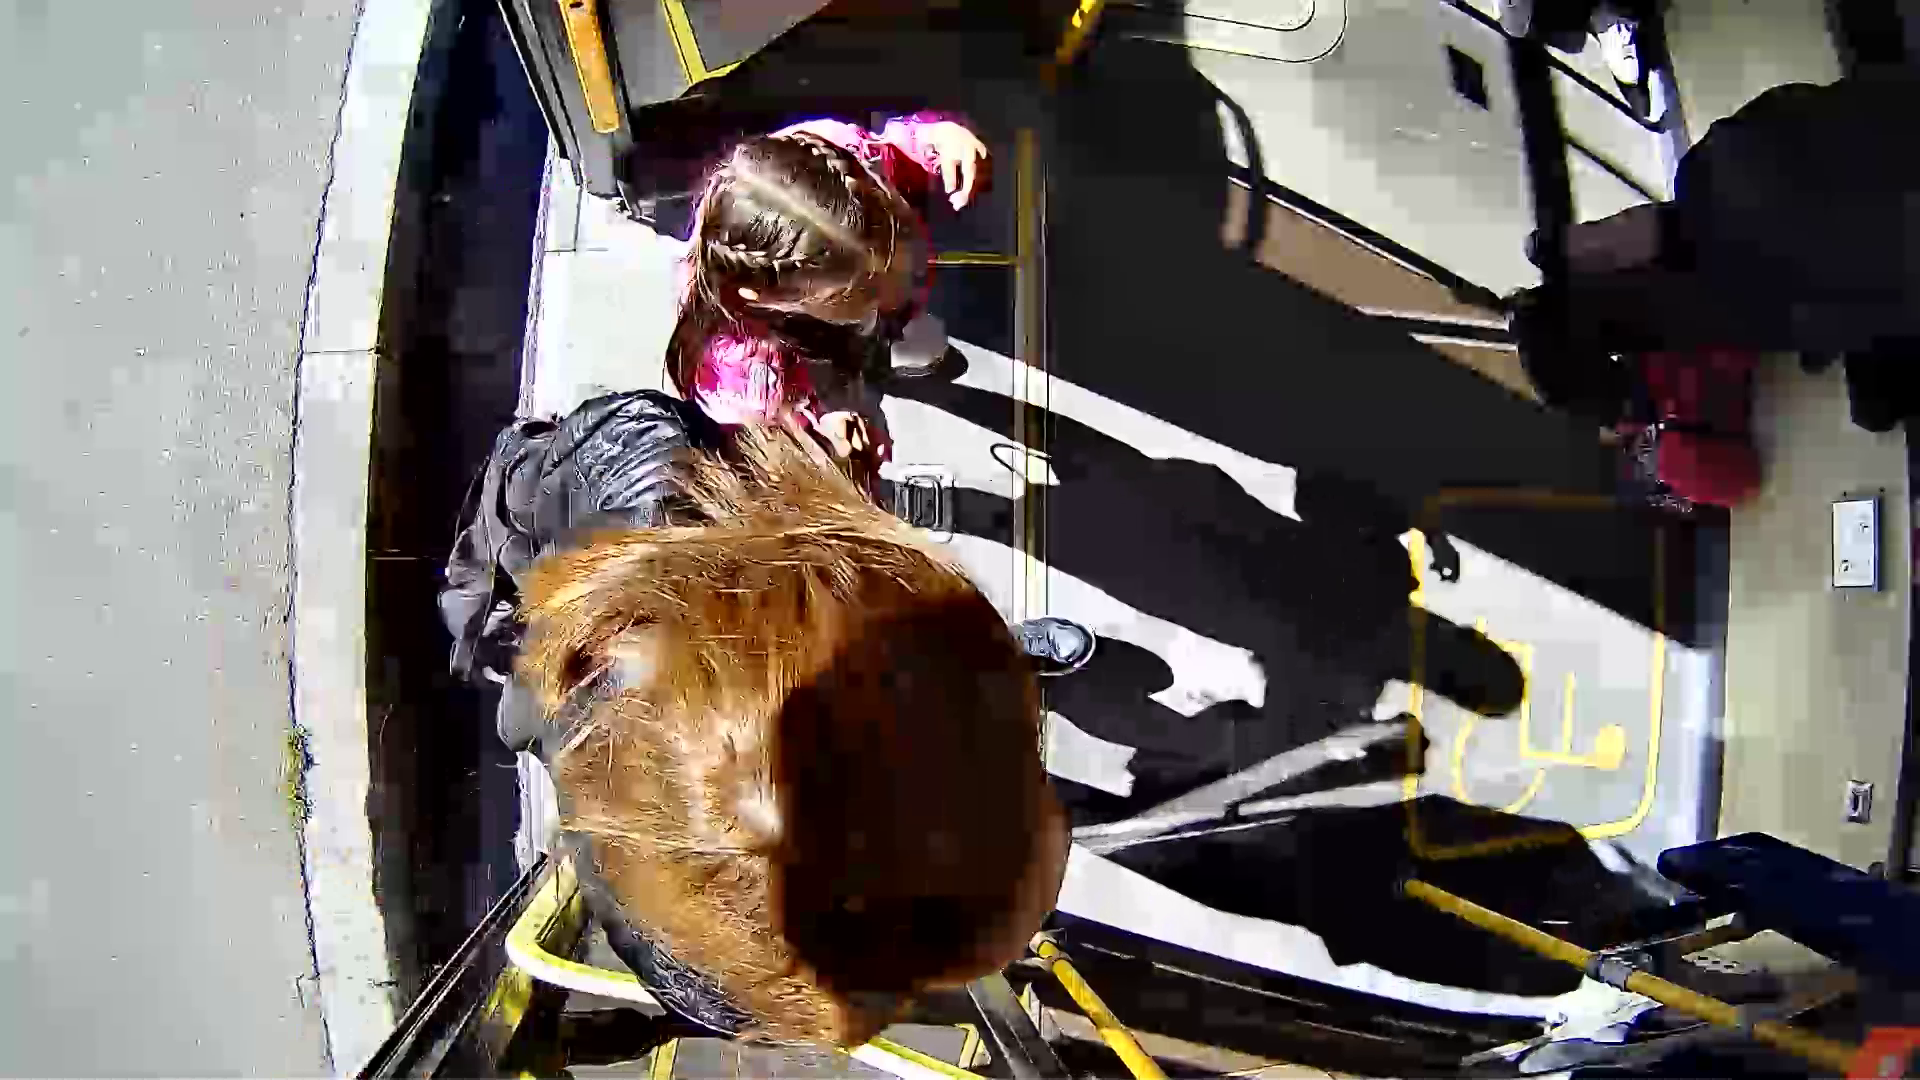person: (478, 414, 1179, 1044), (628, 97, 1115, 526)
